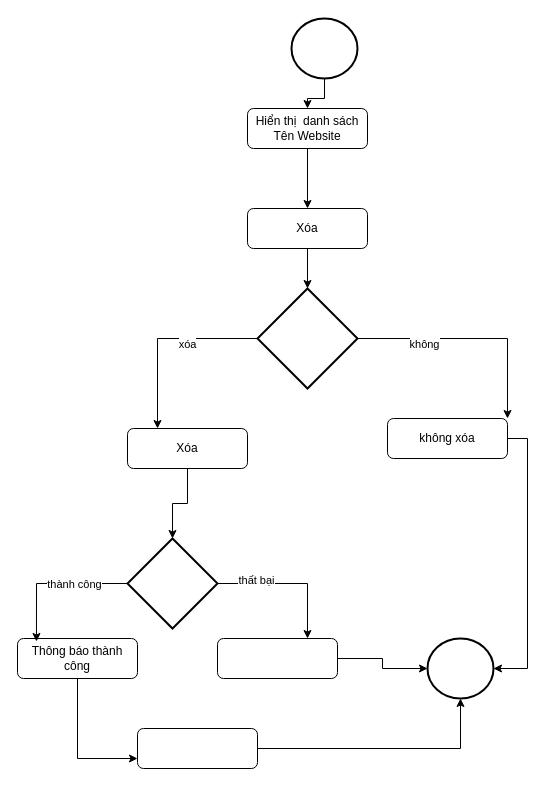
This 553x786 diagram has some shape labels left out. The shapes that lost their labels are listed below. From the top down, each one's centre as x and y in pixels, then its label:
At (x=307, y=338): "Xác nhận".
At (x=277, y=658): "Thông báo lỗi".
At (x=197, y=748): "lấy dữ liệu Tên Website mới".
